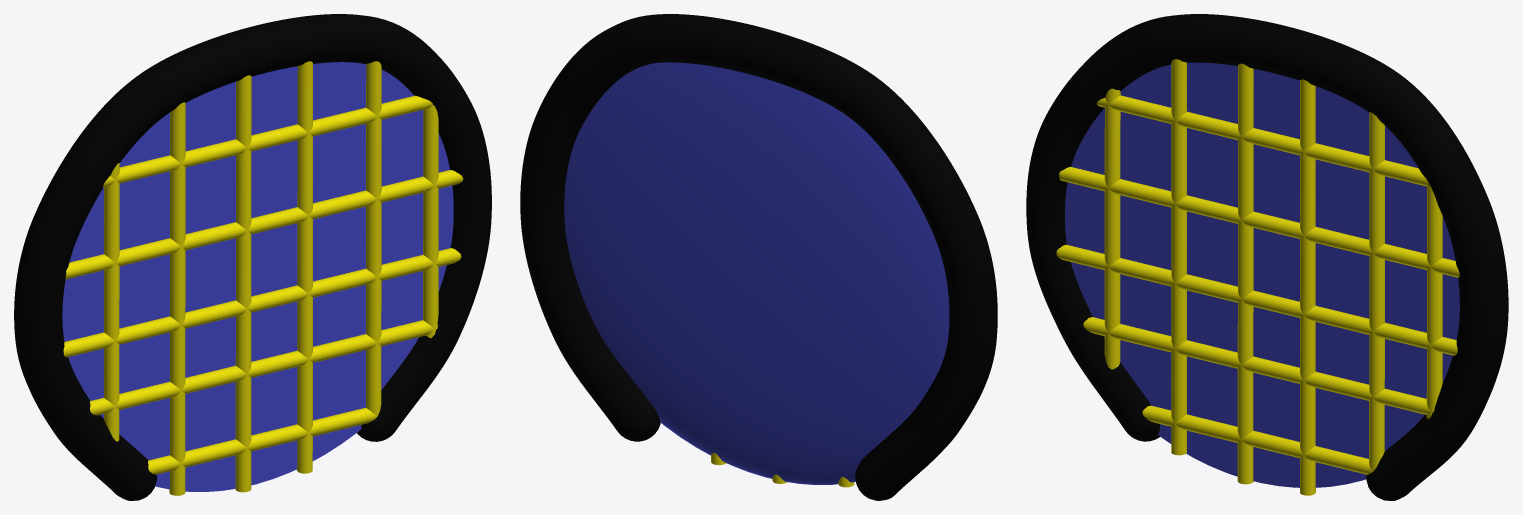
File: Portal Checkpoint.fbx
3 views of the same model, side by side, from view 1: azimuth 30°, elevation 25°; view 2: azimuth 150°, elevation 25°; view 3: azimuth 330°, elevation 25° (orthographic).
Visible parts, largest first — view 1: root (×13); view 2: root (×2); view 3: root (×13).
Boxes of the visible parts, x1,y1,x2,y2 form: root (×13): [14, 14, 491, 500]; root (×2): [520, 14, 997, 500]; root (×13): [1026, 14, 1508, 500].
Size of the model in its own units: 0.6726 by 0.6158 by 0.0596.
7 materials, 2 textured.
